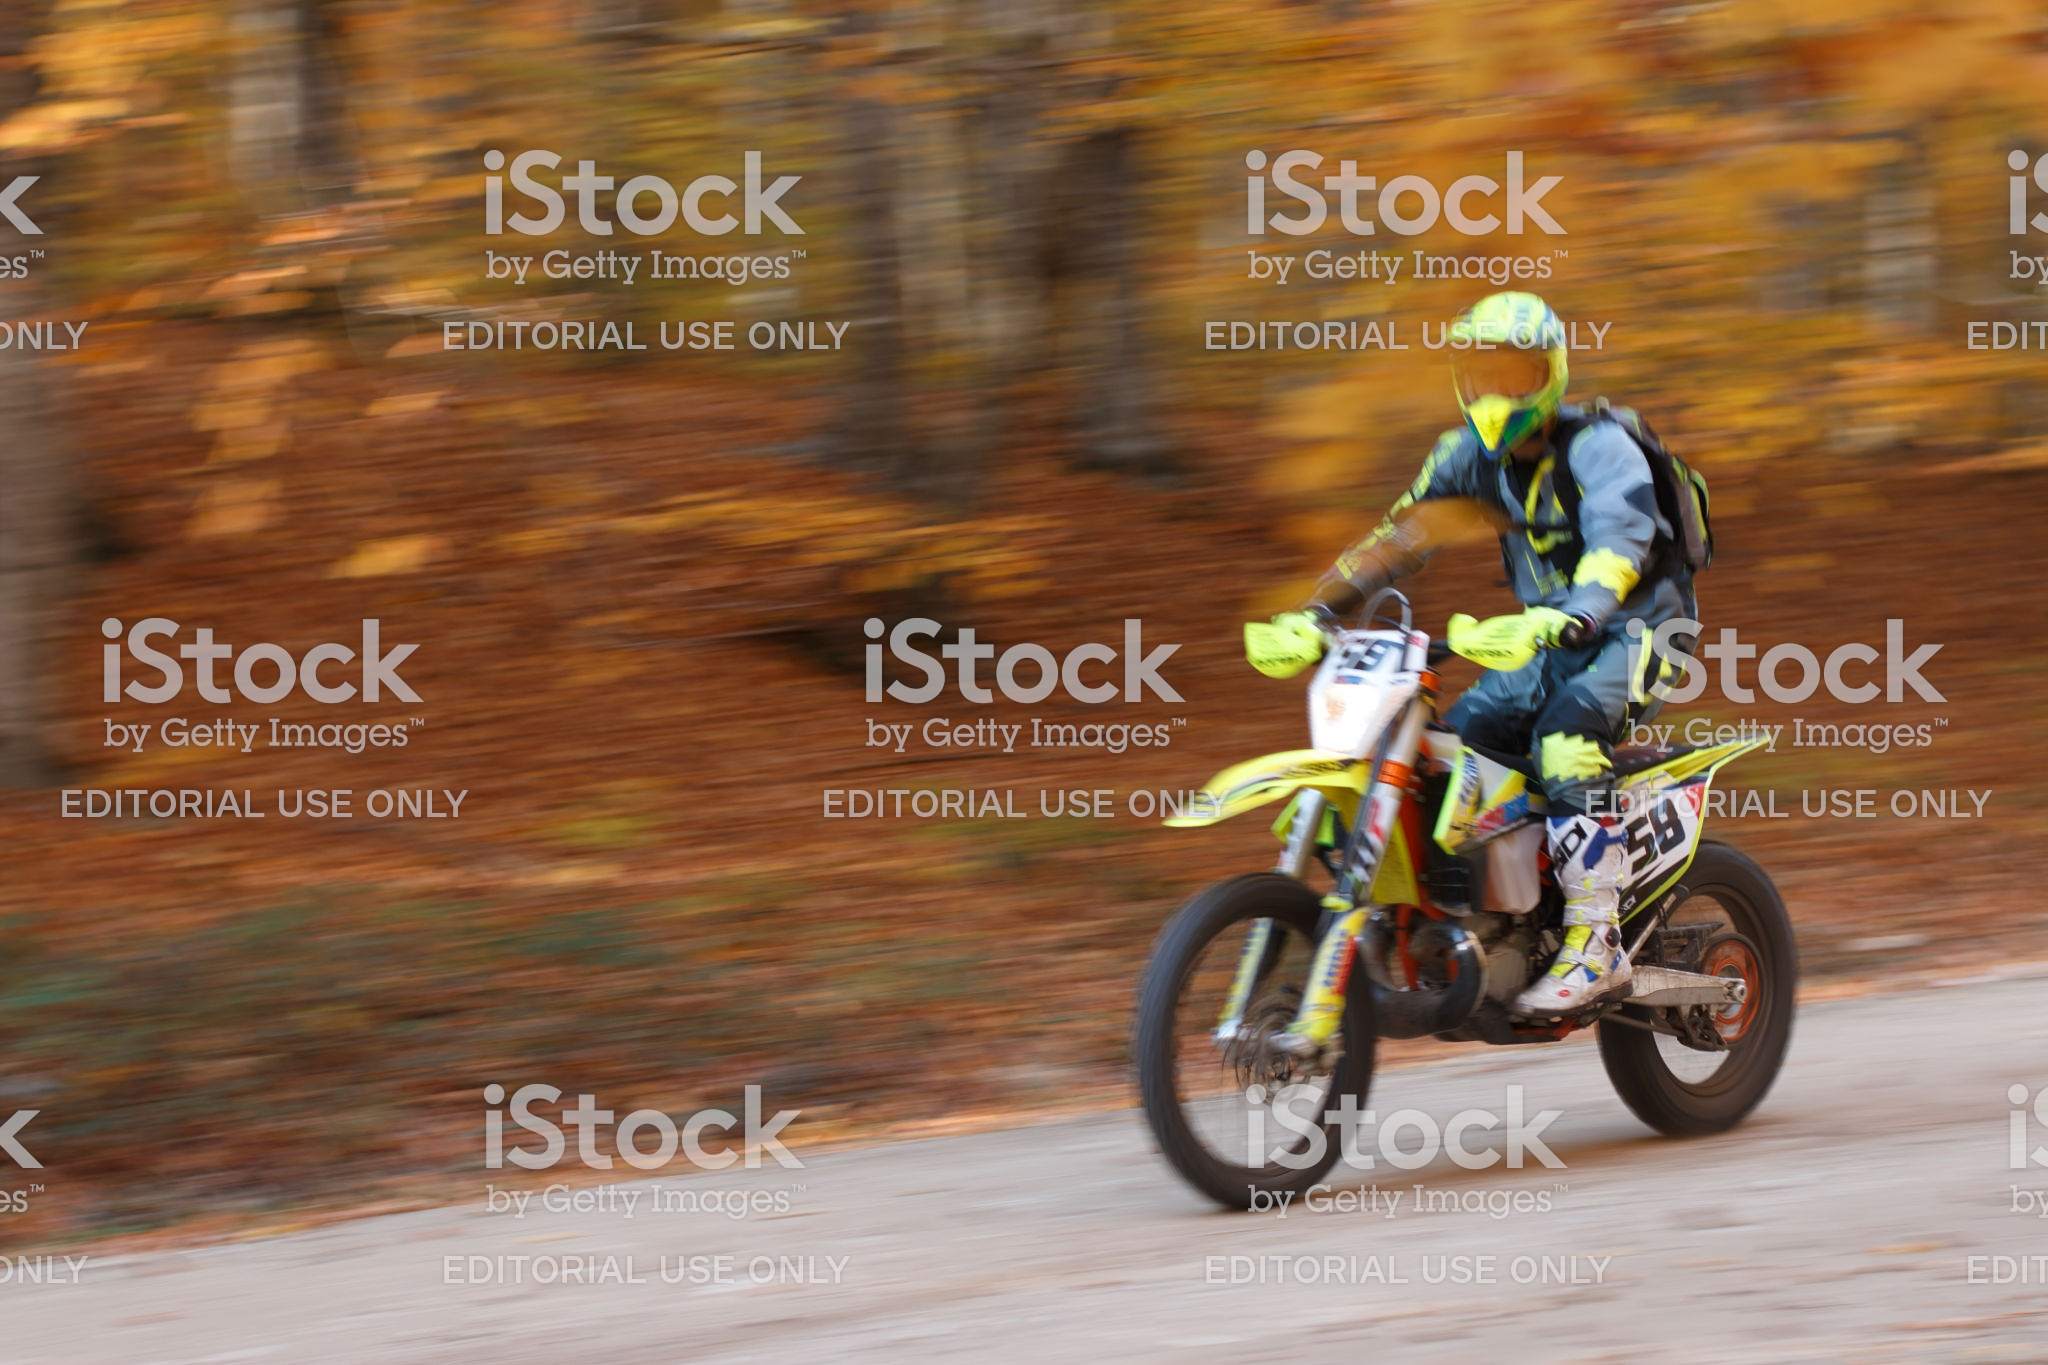helmet: (1425, 277, 1571, 454)
